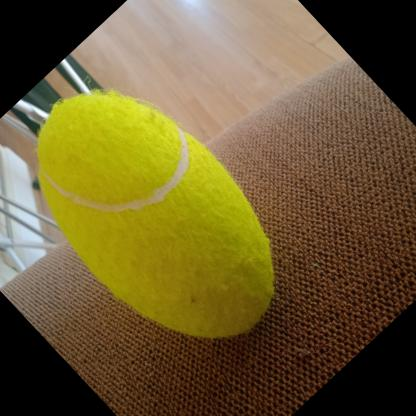Tennis: (0, 42, 326, 387)
